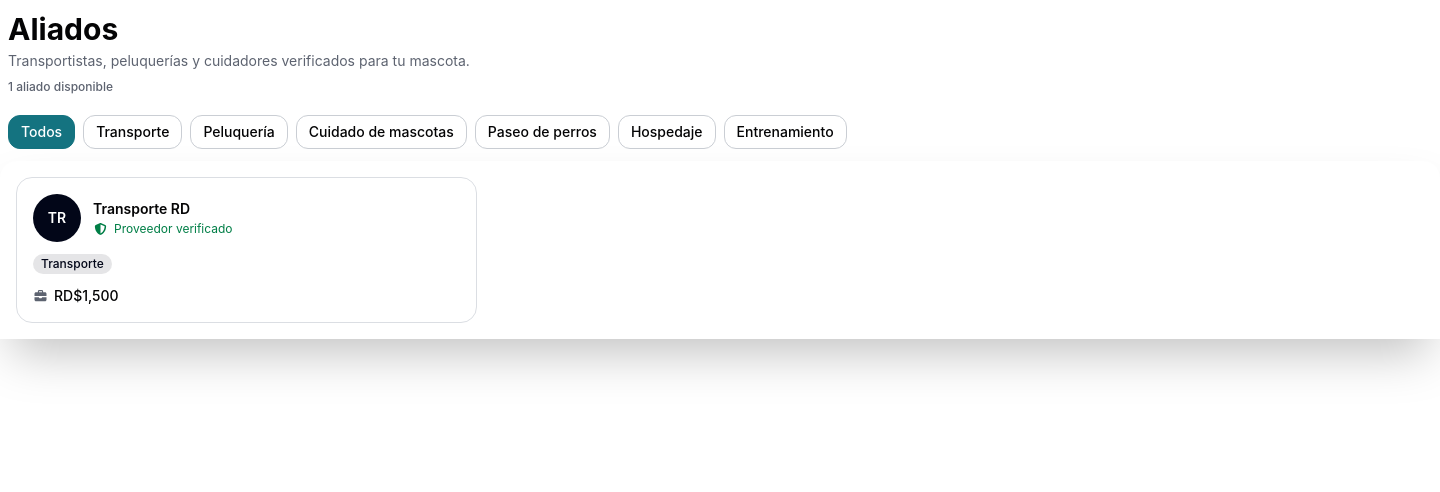
Scenario: ProviderGrid › offers a way out of an over-filtered empty state
Click the button "Hospedaje". click: (667, 132)
box: x1=618 y1=115 x2=716 y2=149
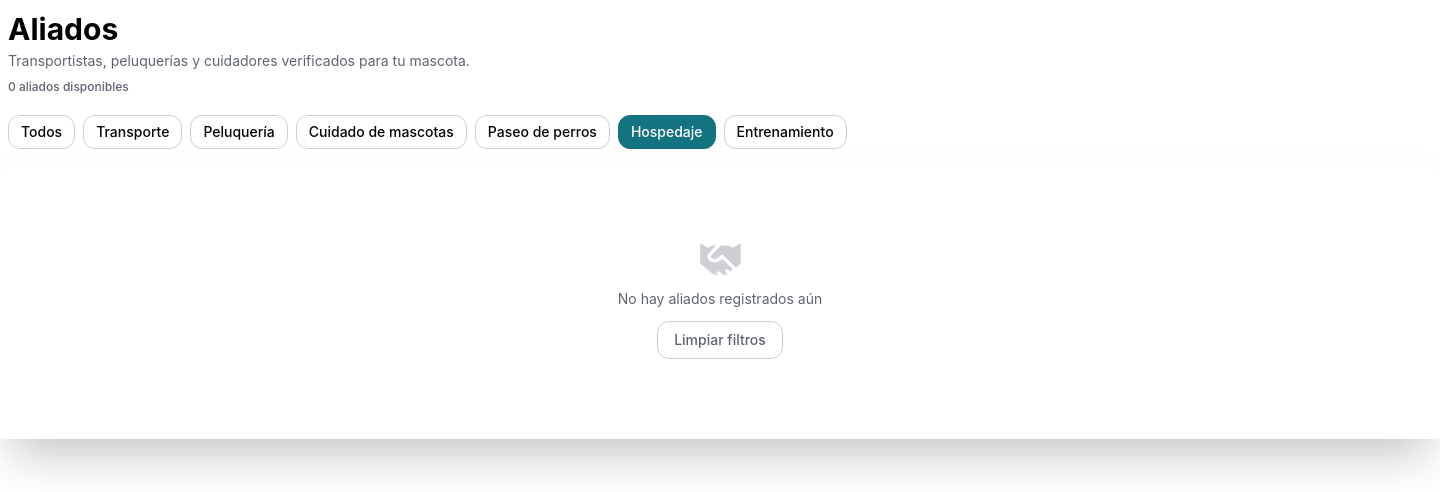
Check: the text "No hay aliados registrados aún" is shown, box x1=618 y1=289 x2=822 y2=309
Click the button "Limpiar filtros". click: (720, 340)
box: x1=657 y1=321 x2=783 y2=359
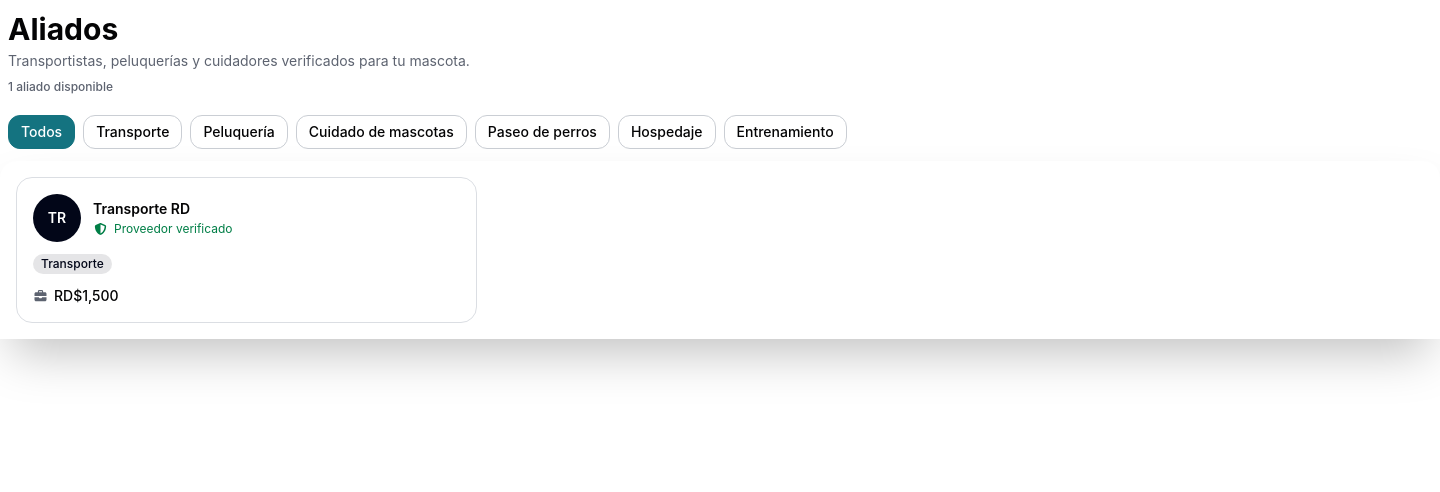
Check: the heading "Transporte RD" is shown, box x1=93 y1=200 x2=190 y2=217
